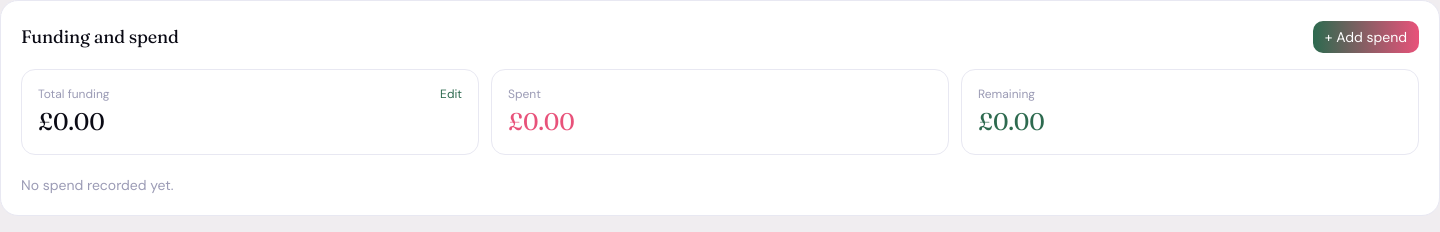
Test: saving once › Money: pressing Save on the funding total twice sends one request
This screenshot has width=1440, height=232.
Click the button "Edit". click: (451, 94)
box: [440,86,462,102]
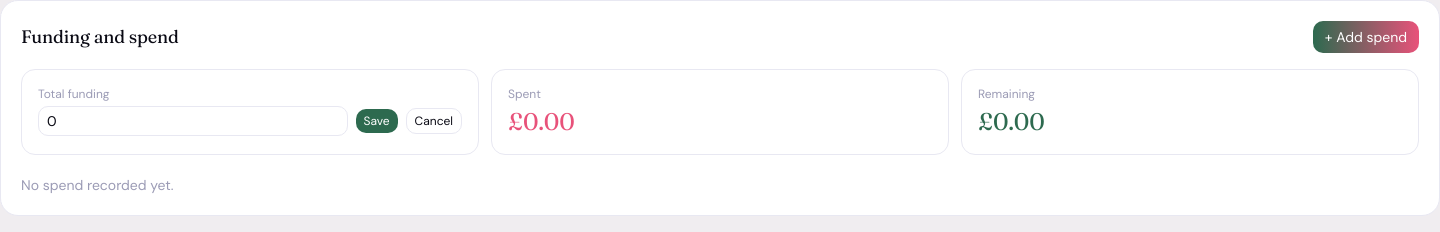
Replace the text in the number field with "1000". click: (193, 121)
box: [38,106,348,136]
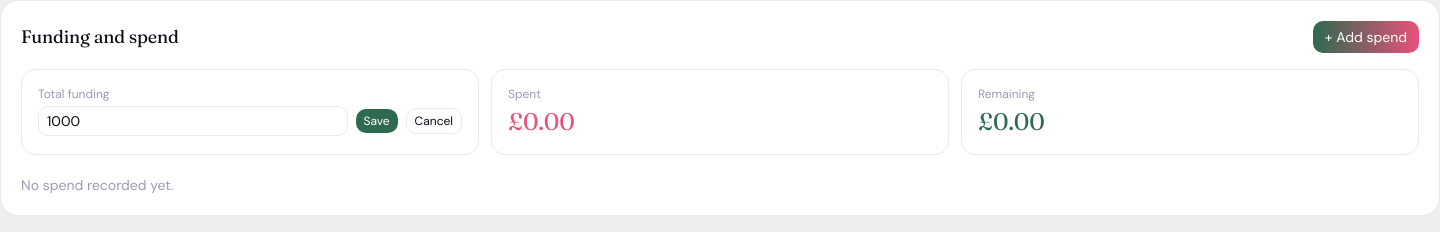
Click the button "Save". click: (377, 121)
box: [356,109,398,133]
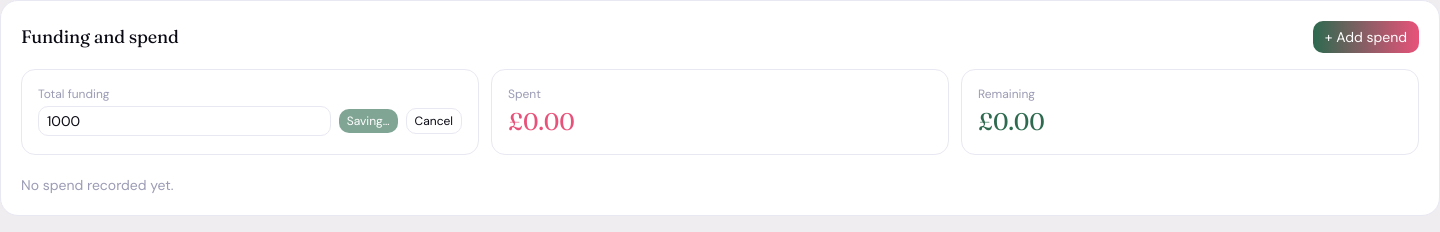
Click the button named "Save". click: (368, 121)
box: [339,109,398,133]
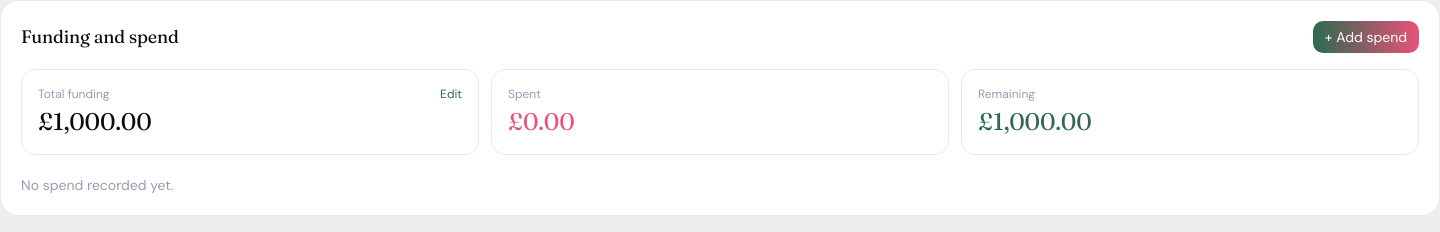
Expected: the button "Edit" is shown, [440,86,462,102]
Expected: the text "£1,000.00" is shown 2 times, [38,107,152,136]; [978,107,1092,136]
